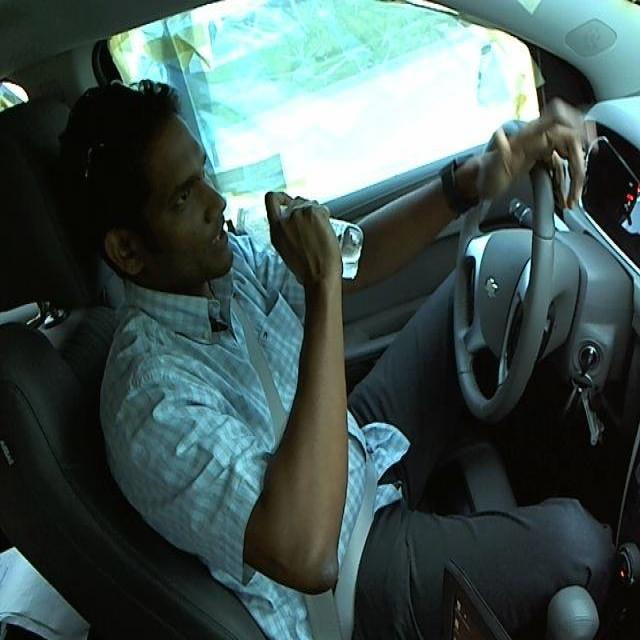drinking: (231, 196, 369, 288)
